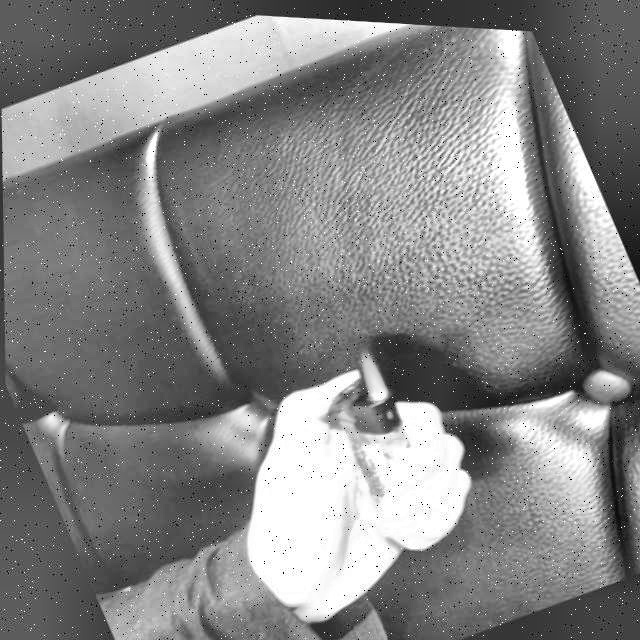Fire: (348, 341, 390, 399)
